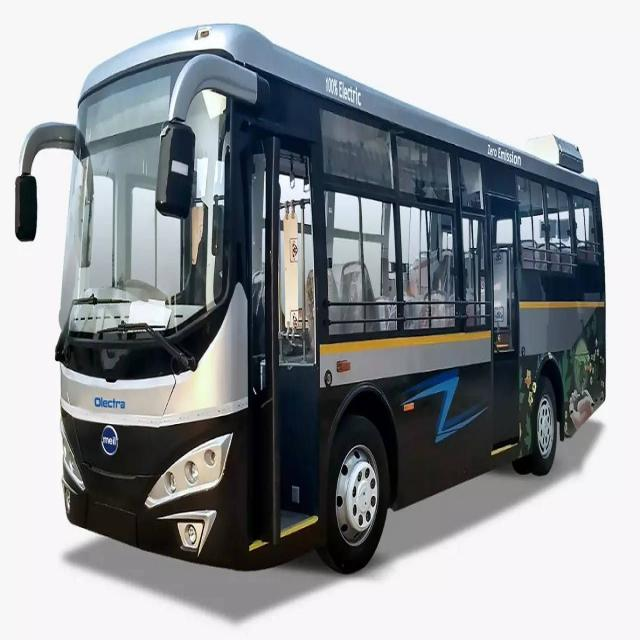bus: (17, 17, 609, 579)
